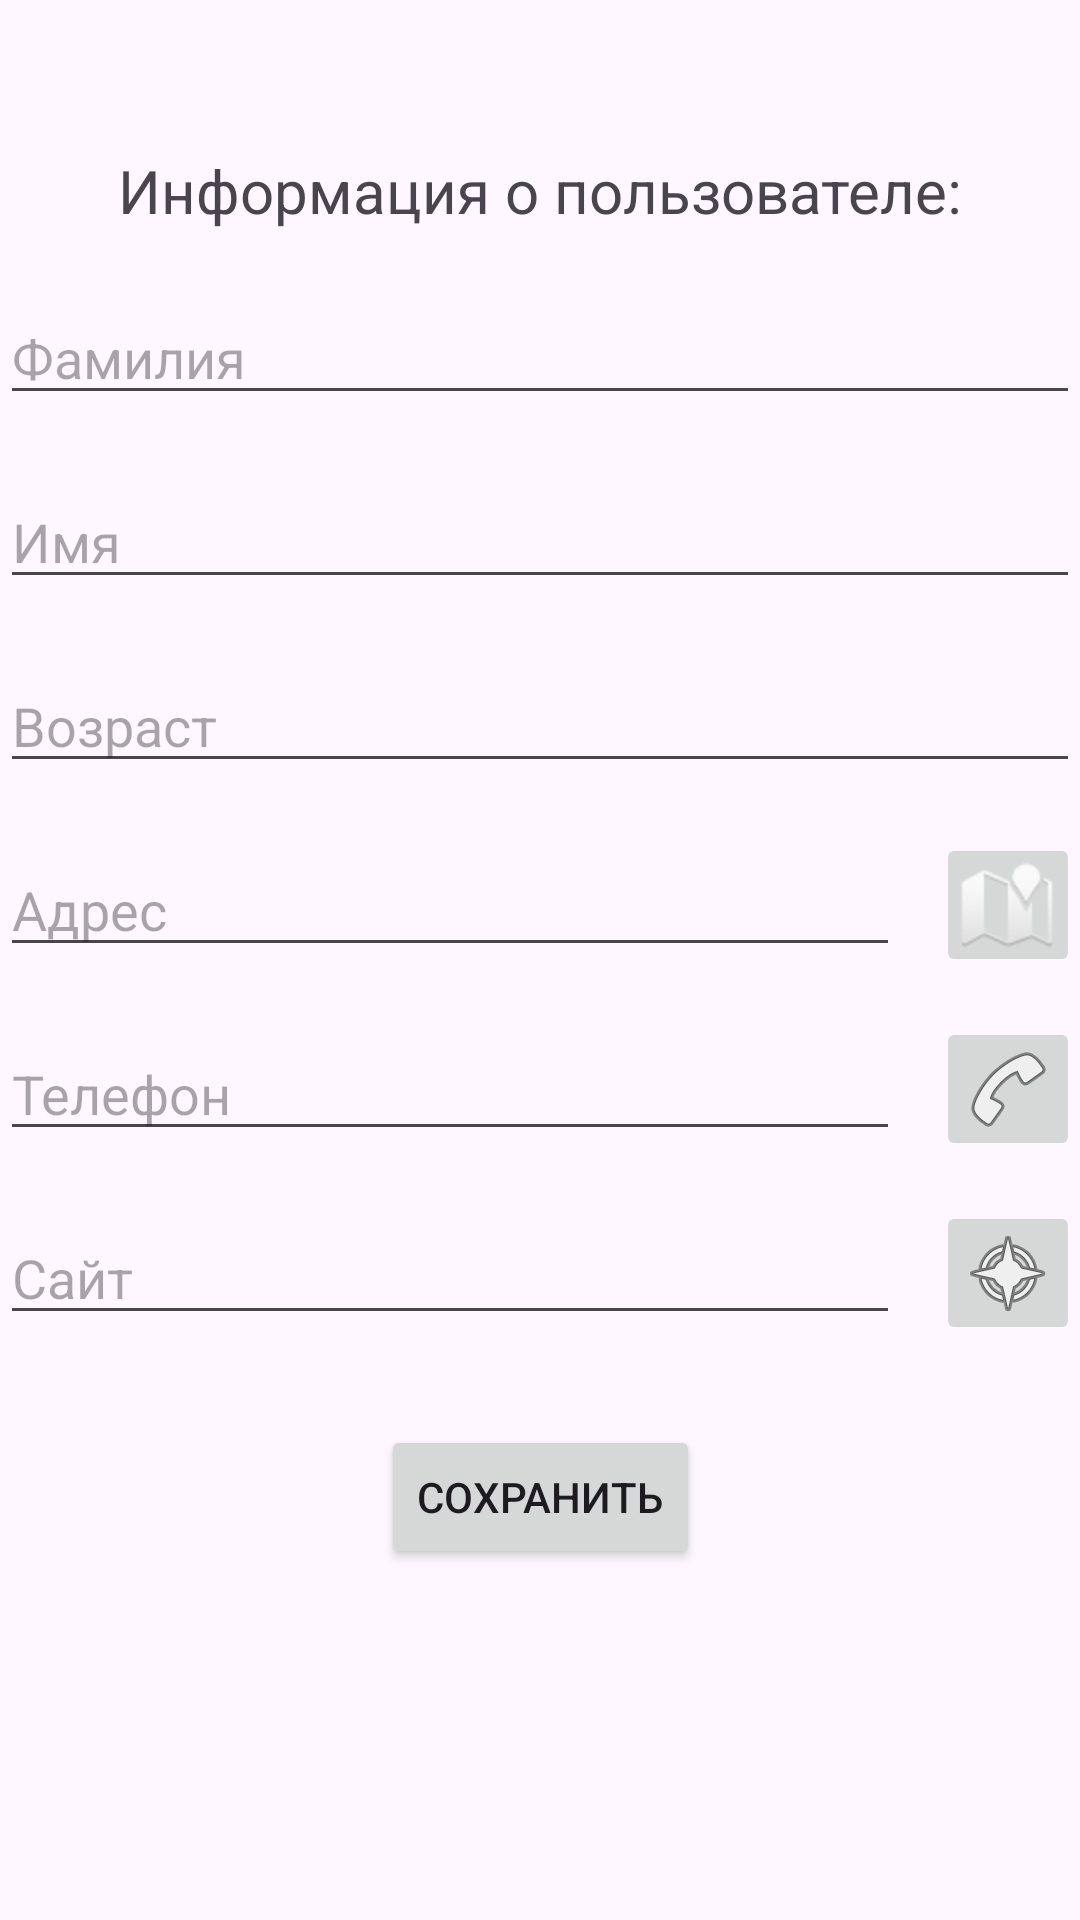

Where to tap for icons on this 1080×1920 app screen, as point (x, y):
call: point (1008, 1089)
compass: point (1008, 1273)
map: point (1008, 905)
